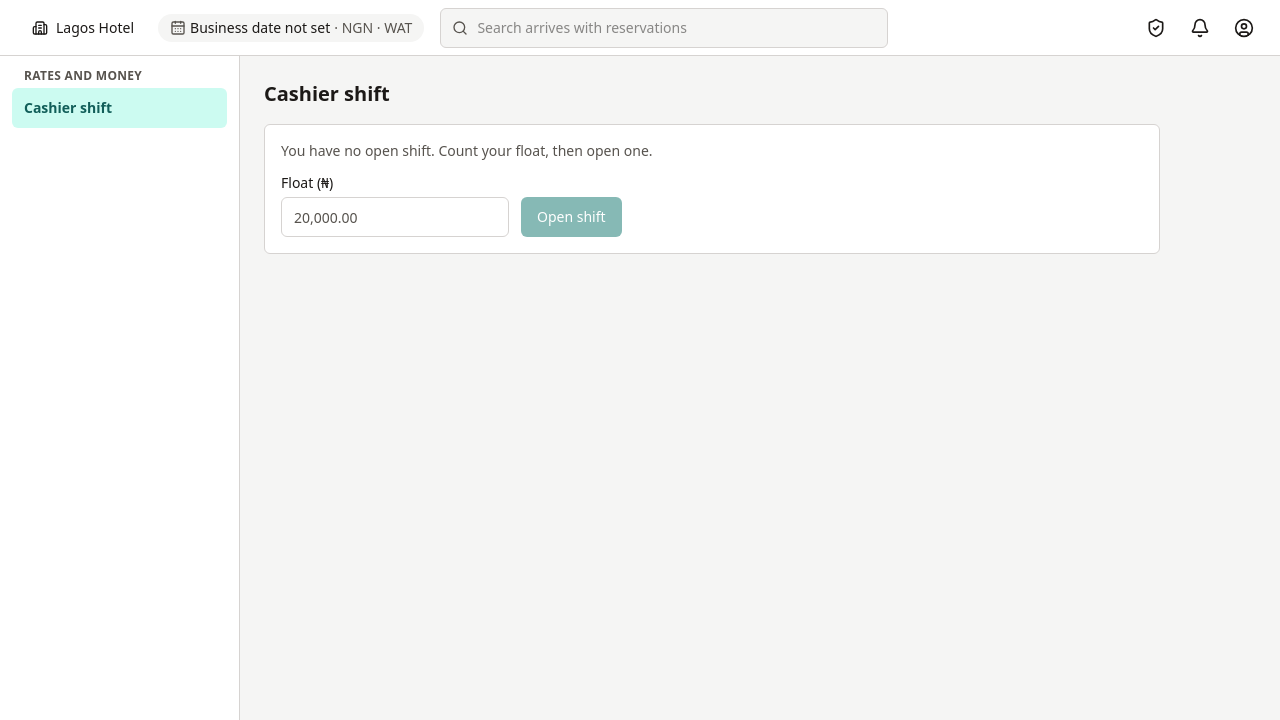
Test: Cashier shift (S14) › opens a shift with the counted float
The width and height of the screenshot is (1280, 720).
Type "20,000" into the field labelled "Float (₦)" at (395, 217), box 281,197 -> 509,237
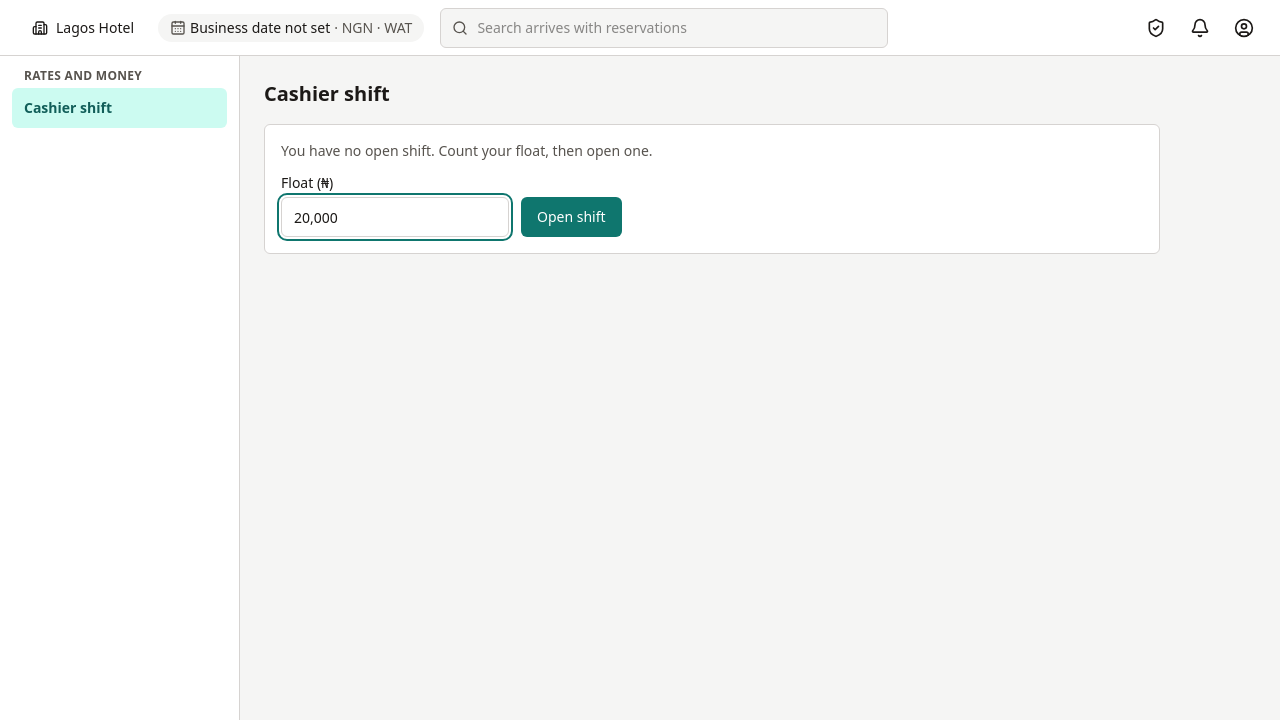
Click the button "Open shift" at (571, 217), box 521,197 -> 622,237
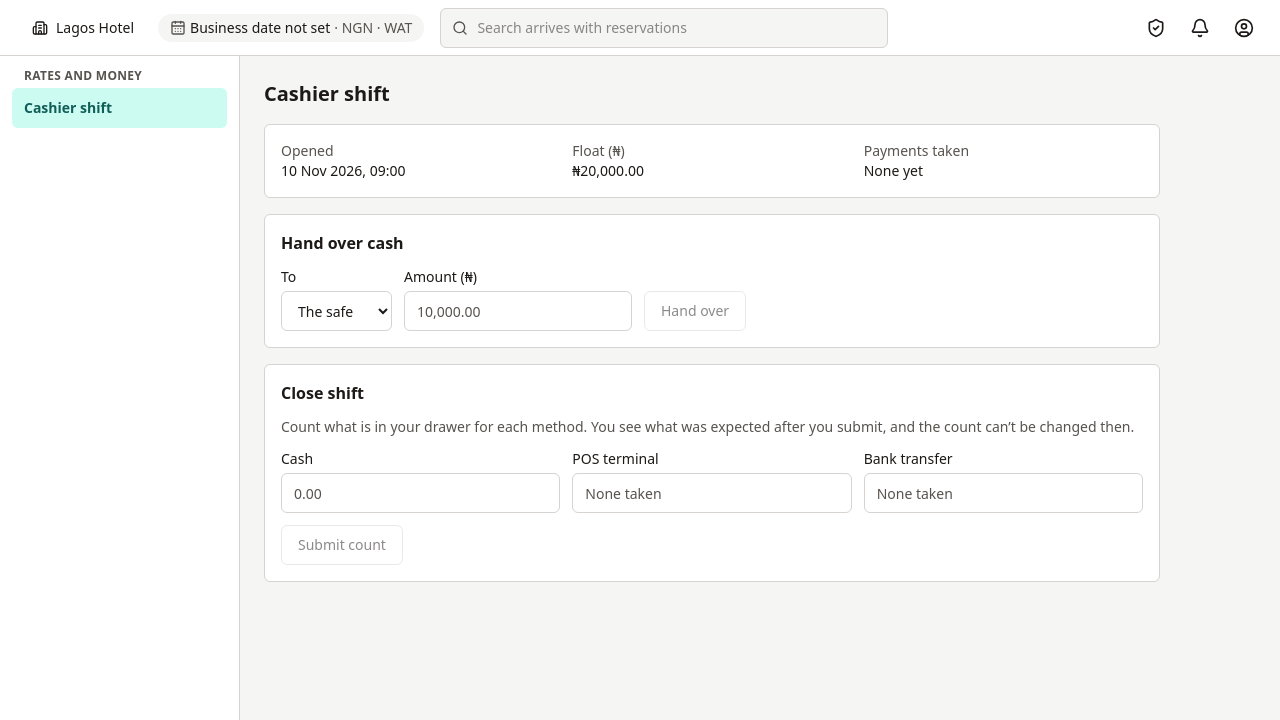
Expected: the form "Close shift" is shown, 264,364 -> 1160,582
